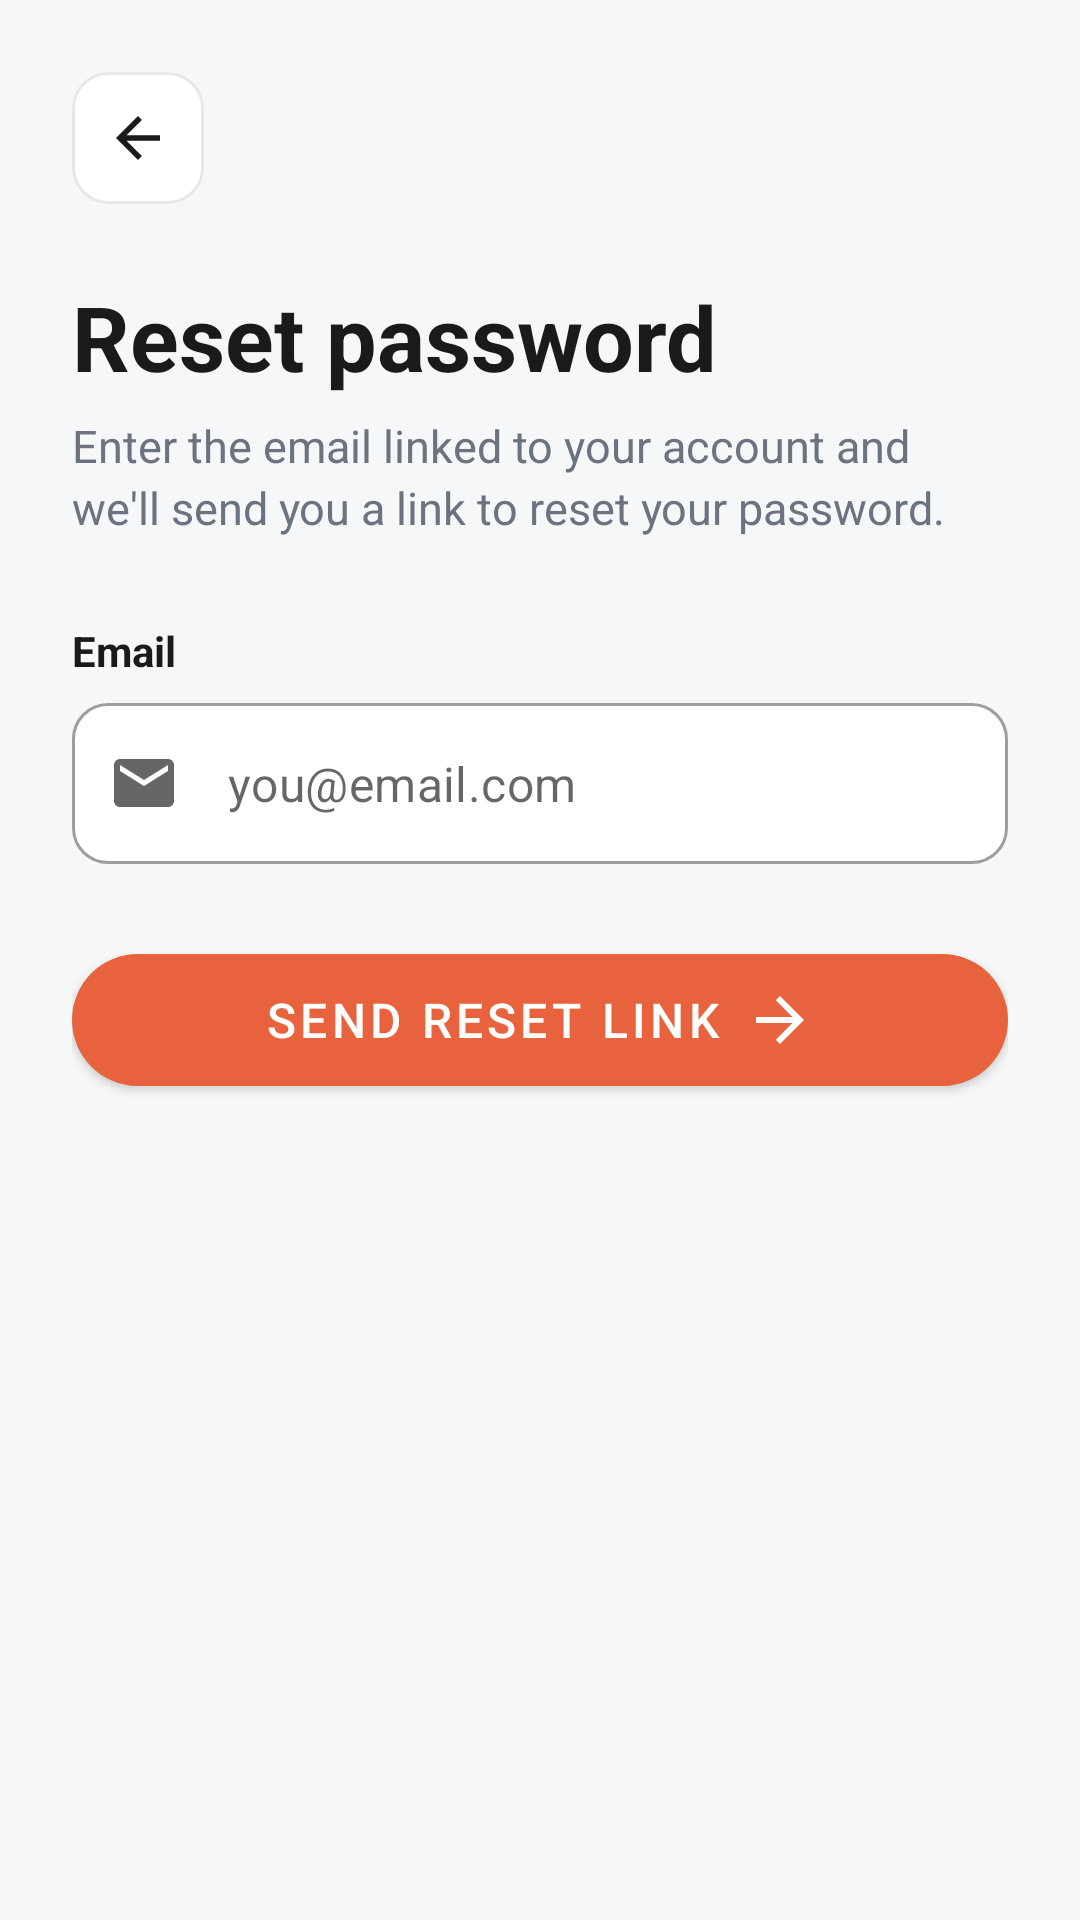

Icons on this 1080 x 1920 Android screen, each with its box as (x1, y1, x2, y2):
arrow back: (116, 116, 160, 160)
